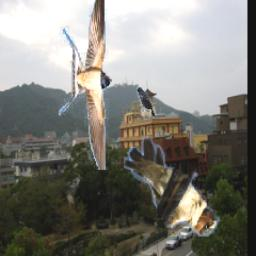Crow: (135, 87, 156, 118)
Swallow: (124, 137, 220, 238), (59, 0, 112, 171)
